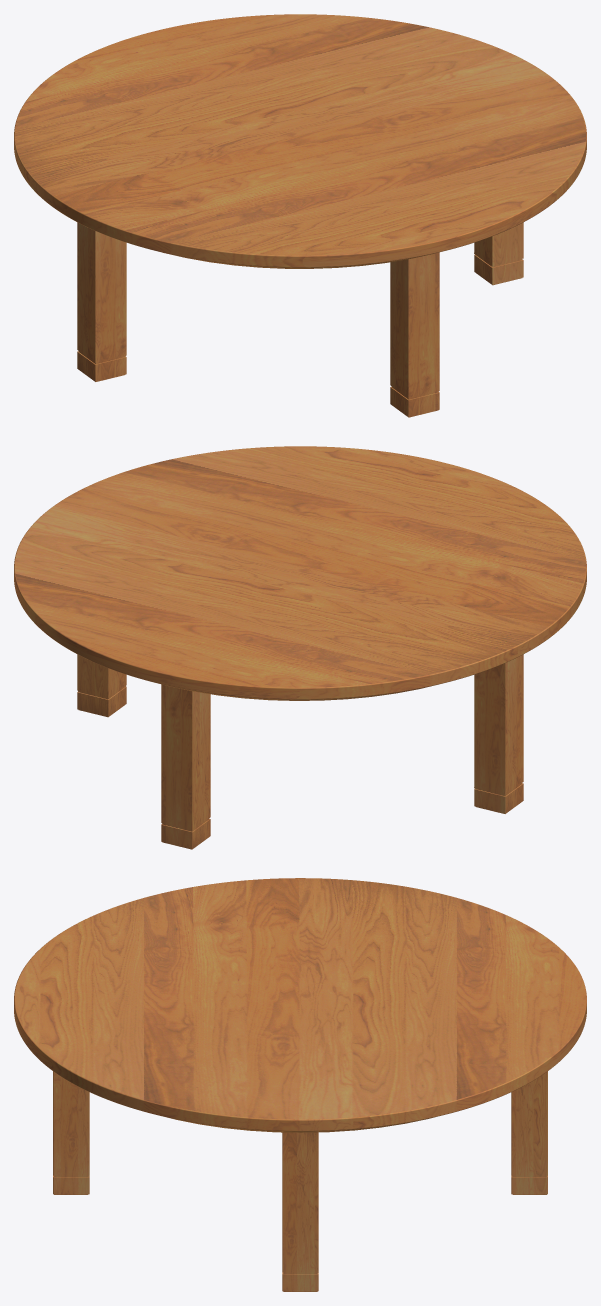
Rendered from Leaves_110_kotatsu_BC.fbx.
The picture shows the model from 3 angles, top to bottom: view 1: azimuth 30°, elevation 25°; view 2: azimuth 150°, elevation 25°; view 3: azimuth 270°, elevation 25°; orthographic projection.
Visible parts, largest first — view 1: 天板, 脚; view 2: 天板, 脚; view 3: 天板, 脚.
Boxes of the visible parts, box(x1,y1,x2,y2) form: 天板: box(14, 14, 586, 267); 脚: box(77, 222, 523, 417); 天板: box(14, 446, 586, 699); 脚: box(77, 654, 523, 849); 天板: box(14, 878, 586, 1131); 脚: box(53, 1071, 547, 1291).
Size of the model in its own units: 1100 by 1100 by 400.
8 materials, 3 textured.
